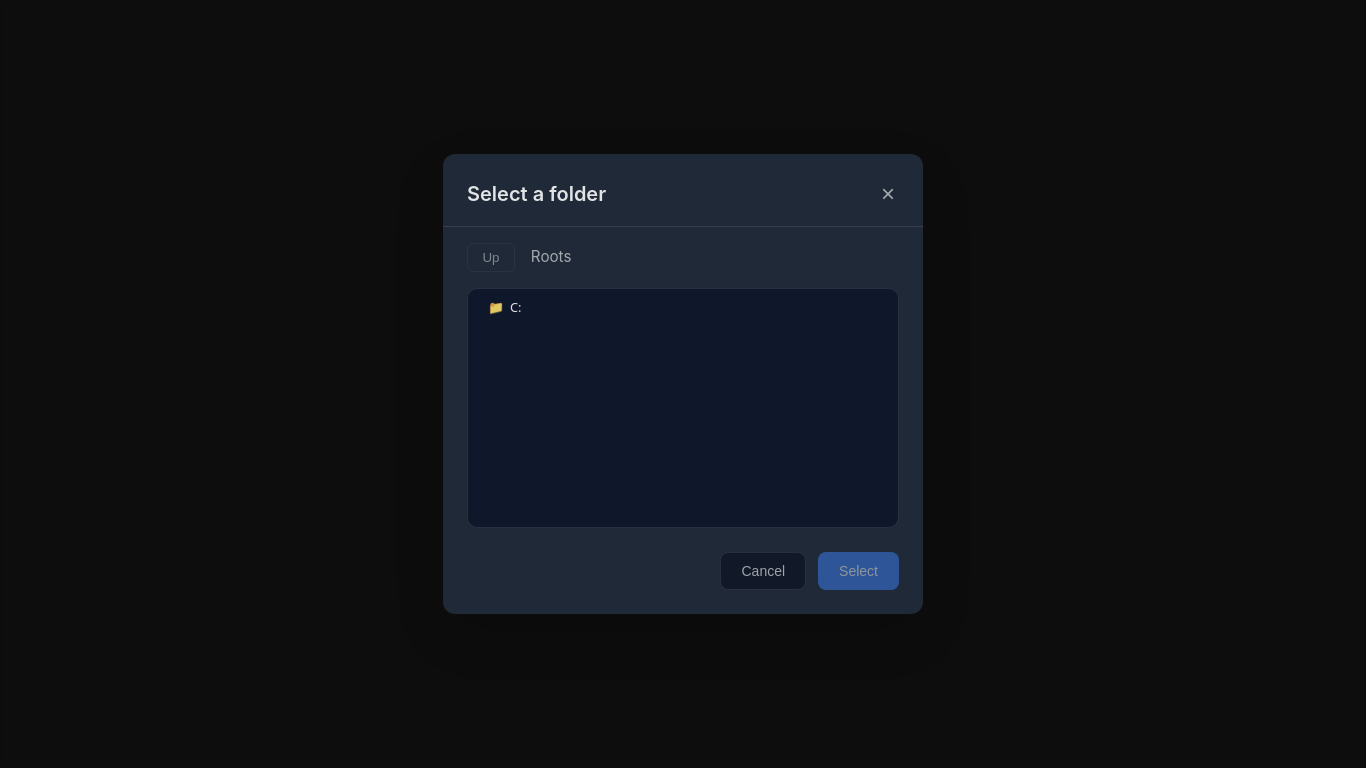
Test: FolderPickerModal › Up button returns to roots from a drive path
The image size is (1366, 768).
Click the text "C:".
click(516, 308)  # box [510,299,522,317]
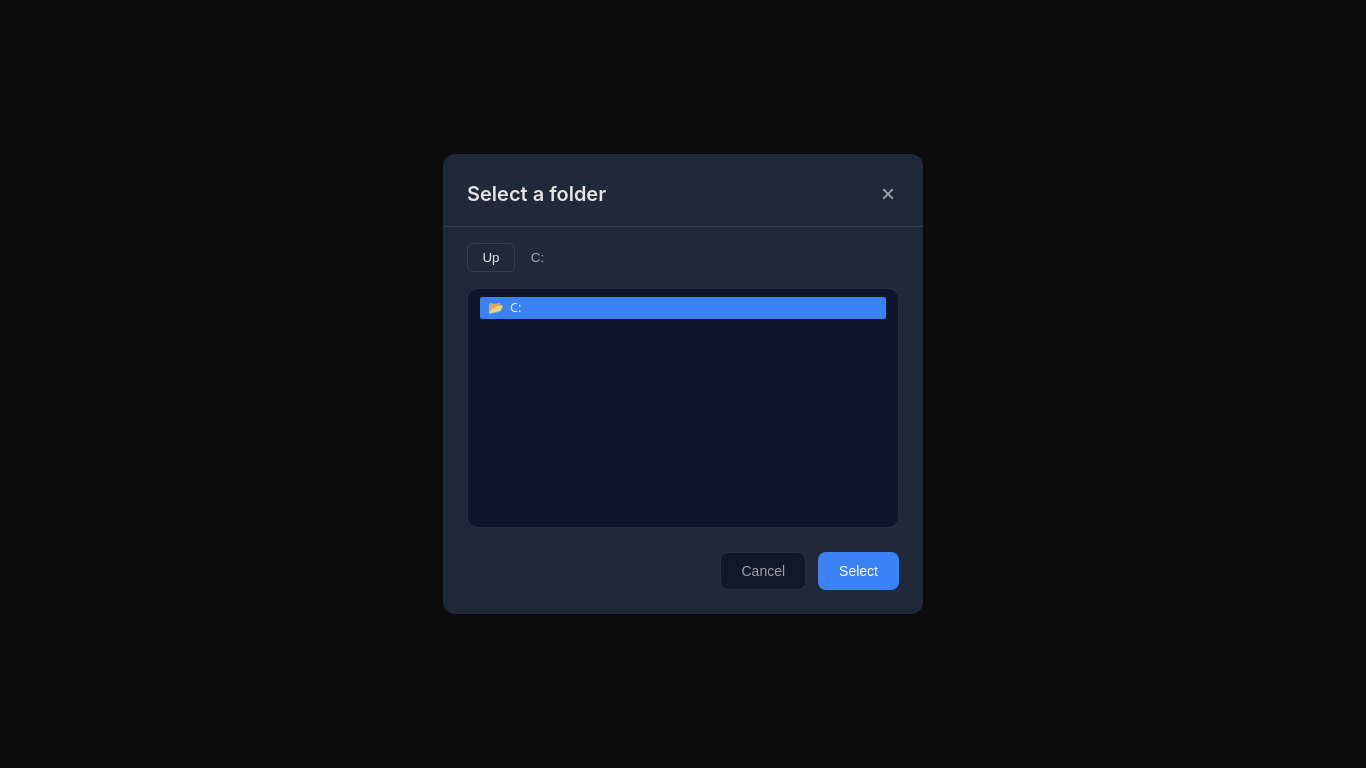
Click the button "Up".
click(491, 258)  # box [467,243,515,272]
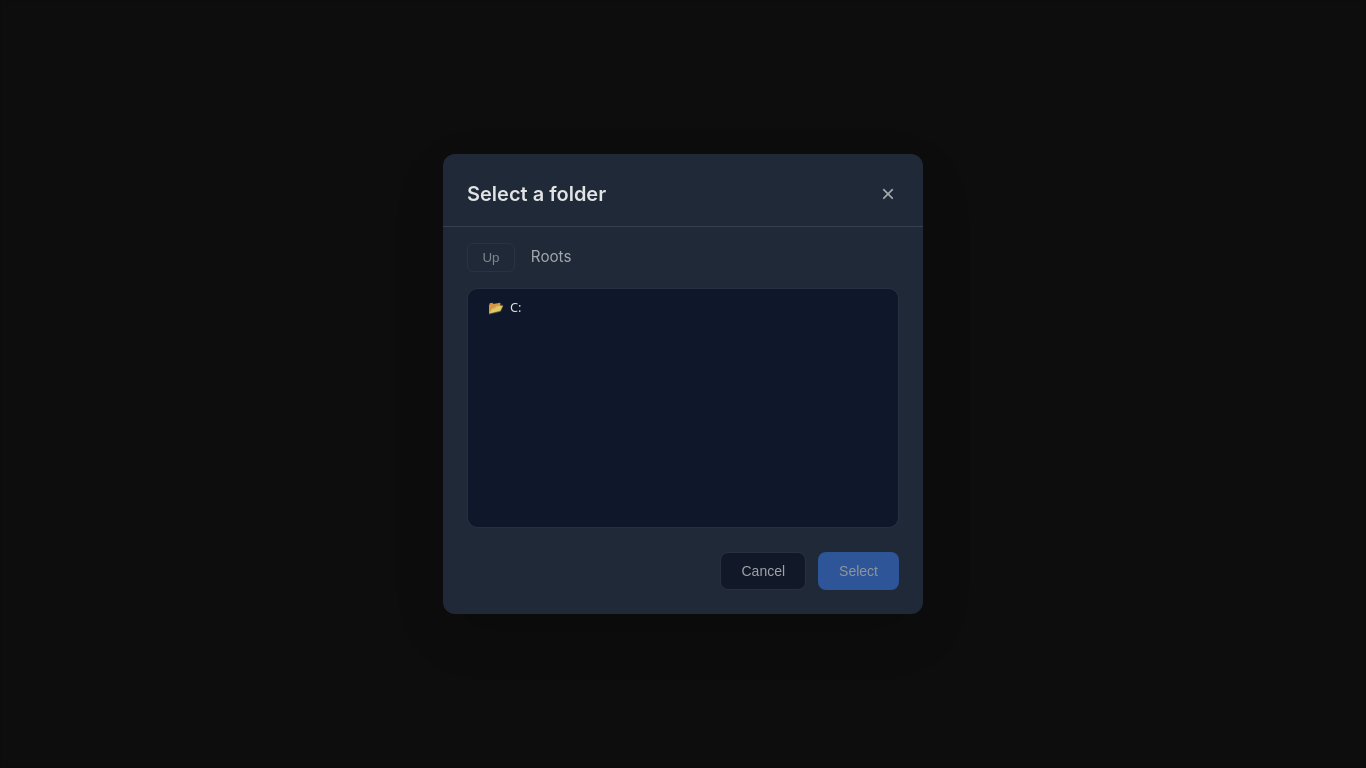
Now the text "Roots" is shown, box [531,246,571,269]
